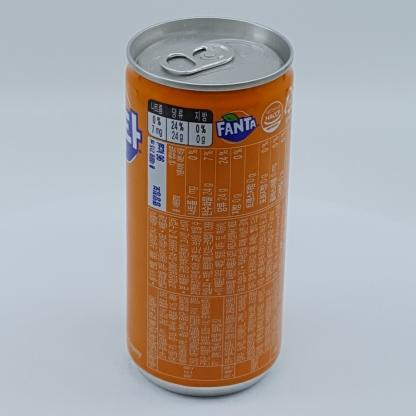-------215ML: (125, 16, 294, 396)
